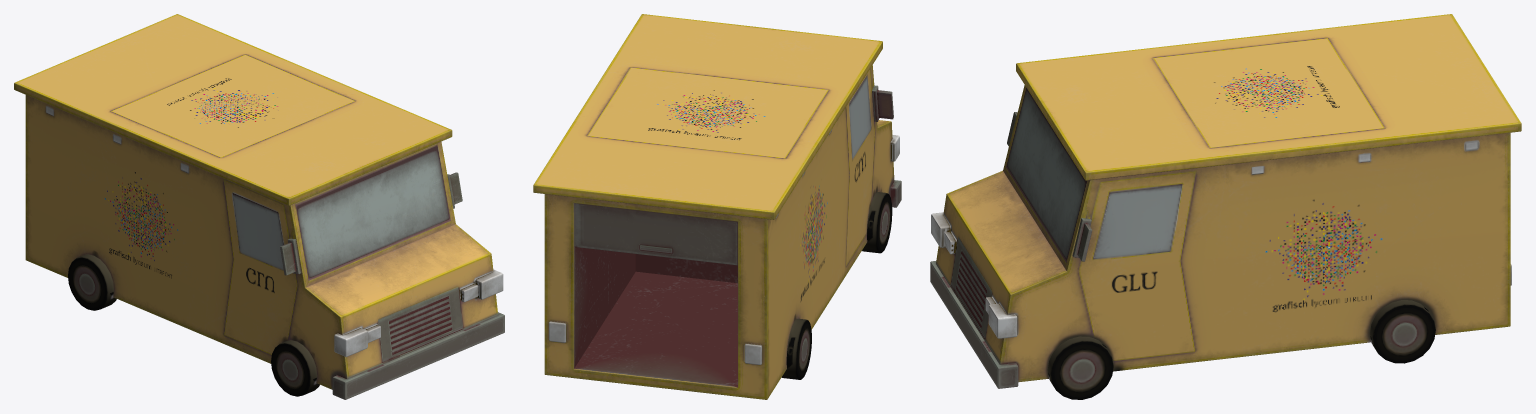
The model's file is GLU van.fbx.
3 views of the same model, side by side, from view 1: azimuth 30°, elevation 25°; view 2: azimuth 150°, elevation 25°; view 3: azimuth 270°, elevation 25° (orthographic). The views are drawn at different scales.
Parts seen in each view (by area): view 1: Body, Bumper, Back_wheels, Front_wheels, Front_lights, Mirrors, Front_lights_2; view 2: Body, Back_door, Front_wheels, Back_wheels, Back_lights, Mirrors; view 3: Body, Front_wheels, Back_wheels, Bumper, Front_lights, Mirrors.
Boxes of the visible parts, x1=… form: Body: x1=14, y1=14, x2=498, y2=389; Bumper: x1=332, y1=312, x2=504, y2=399; Back_wheels: x1=68, y1=254, x2=116, y2=310; Front_wheels: x1=271, y1=340, x2=319, y2=396; Front_lights: x1=334, y1=269, x2=503, y2=356; Mirrors: x1=280, y1=172, x2=462, y2=275; Front_lights_2: x1=365, y1=283, x2=478, y2=342; Body: x1=533, y1=14, x2=894, y2=399; Back_door: x1=574, y1=203, x2=737, y2=265; Front_wheels: x1=862, y1=192, x2=892, y2=253; Back_wheels: x1=781, y1=318, x2=811, y2=379; Back_lights: x1=549, y1=321, x2=762, y2=364; Mirrors: x1=872, y1=85, x2=893, y2=121; Body: x1=936, y1=14, x2=1521, y2=382; Front_wheels: x1=1047, y1=336, x2=1113, y2=399; Back_wheels: x1=1370, y1=300, x2=1435, y2=363; Bumper: x1=930, y1=261, x2=1018, y2=388; Front_lights: x1=931, y1=212, x2=1017, y2=338; Mirrors: x1=1007, y1=112, x2=1092, y2=261.
Bounding box in the file's own units: 6.36 × 4.02 × 9.49.
